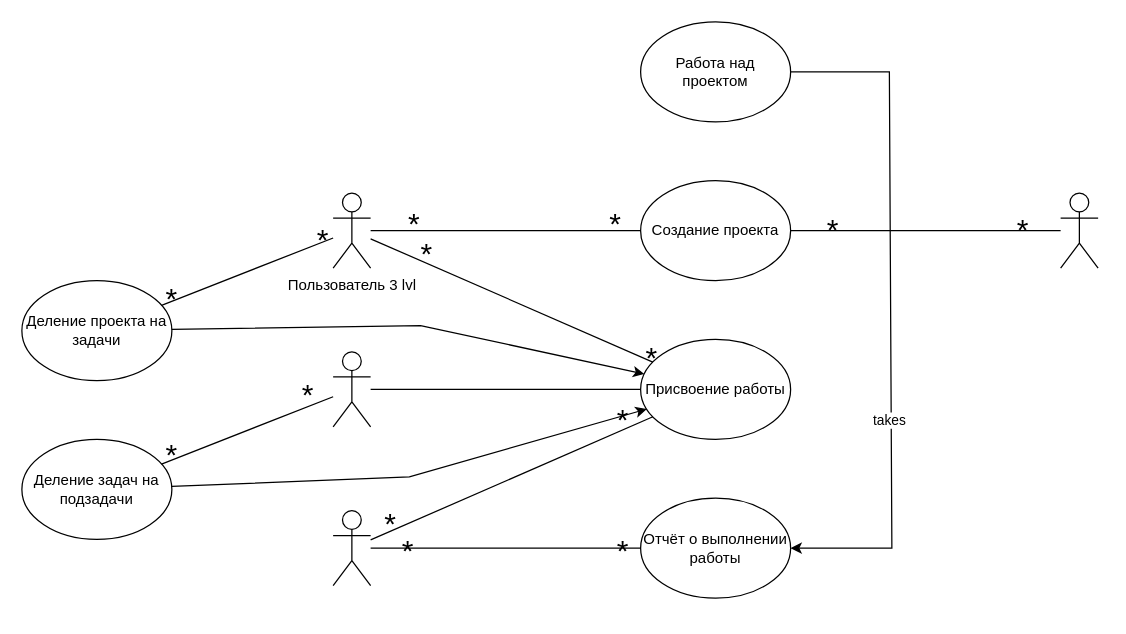
This 1126x634 diagram has some shape labels left out. Here are the shapes that lost their labels. From the top down, the centre of each, then its label:
At point 1078,230: "Клиент".
At point 351,389: "Пользователь 2 lvl".
At point 351,547: "Пользователь 1 lvl".
